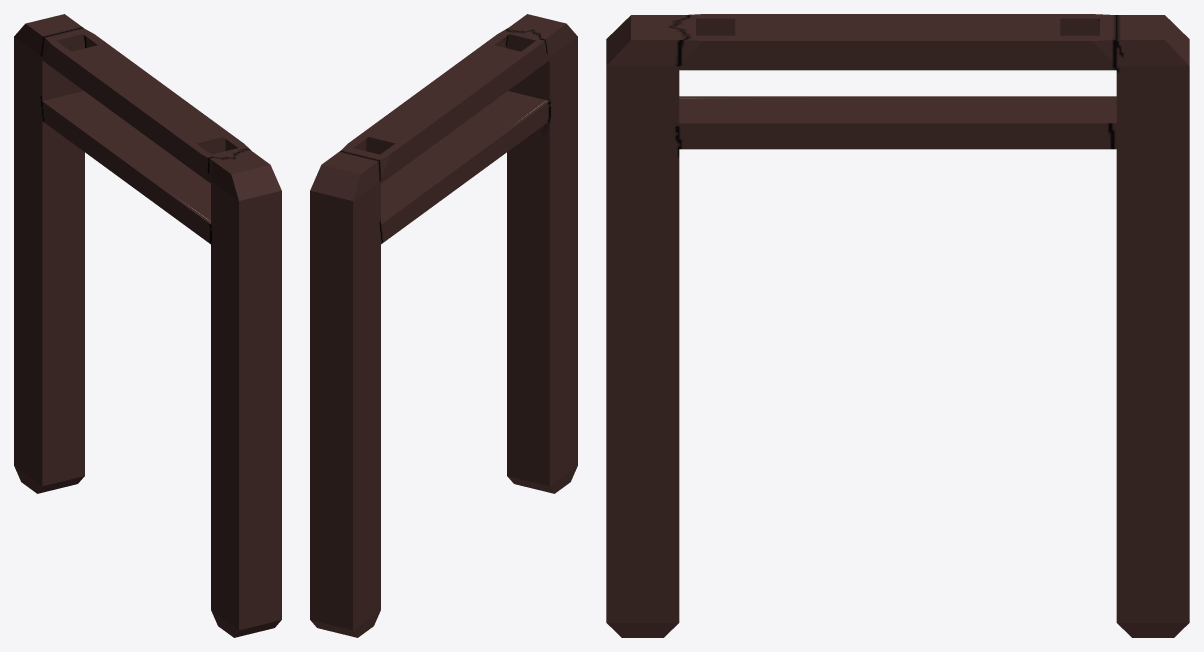
Rendered from ToolHold.fbx.
3 renders of one model, left to right at view 1: azimuth 30°, elevation 25°; view 2: azimuth 150°, elevation 25°; view 3: azimuth 270°, elevation 25°, orthographic. The views are drawn at different scales.
Parts seen in each view (by area): view 1: Cube; view 2: Cube; view 3: Cube.
Part boxes in pixels (bbox=[...]): Cube: bbox=[14, 14, 281, 637]; Cube: bbox=[310, 14, 577, 637]; Cube: bbox=[606, 14, 1189, 637].
Size of the model in its own units: 53.25 by 547 by 484.
Materials: 1 (1 with a texture image).
